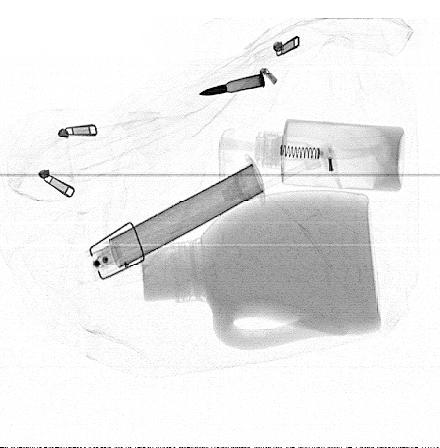Bullet: (198, 72, 266, 96)
